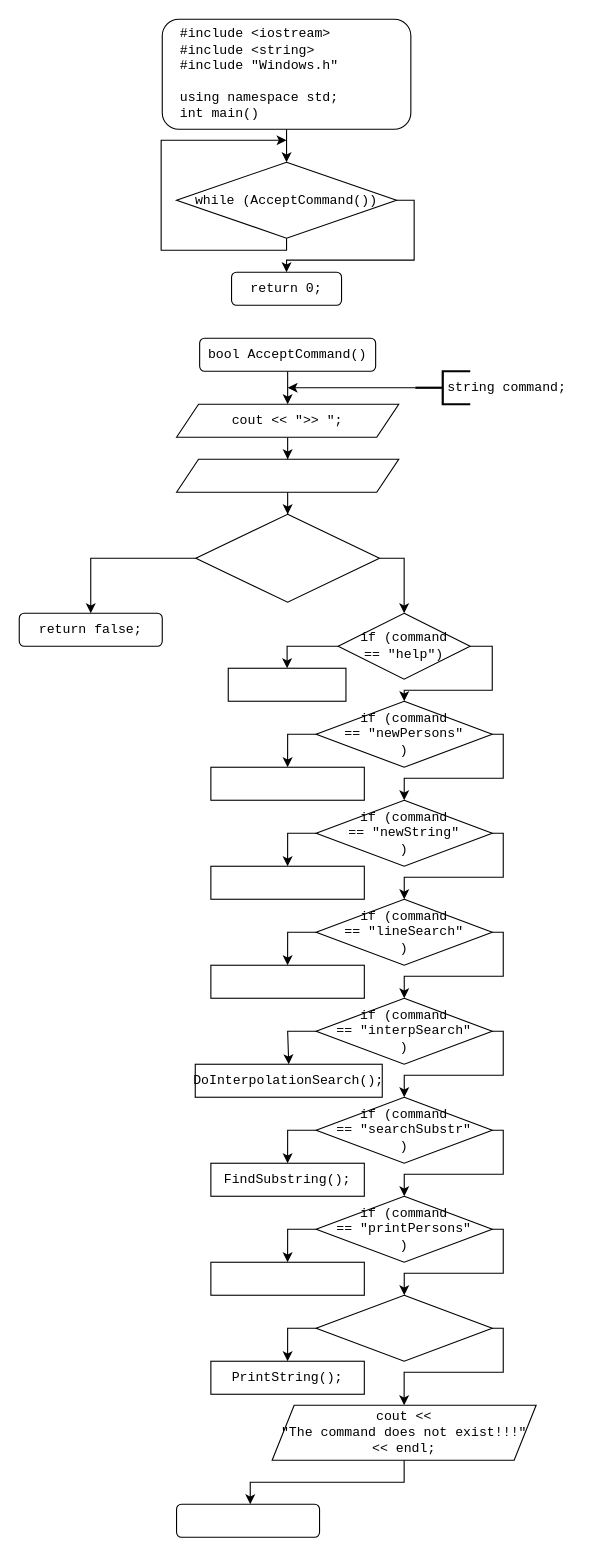
This 590x1557 diagram has some shape labels left out. Here are the shapes that lost their labels. From the top down, the centre of each, then its label:
point 287,475: getline(cin, command);
point 287,557: if (( command == "exit") || (command == "0"))
point 286,684: ShowHelp();
point 287,783: InputNewPersons();
point 287,882: InputNewString();
point 287,981: DoLineSearch();
point 287,1278: PrintAllPersons();
point 403,1327: if (command == "printString" )
point 247,1520: return true;
